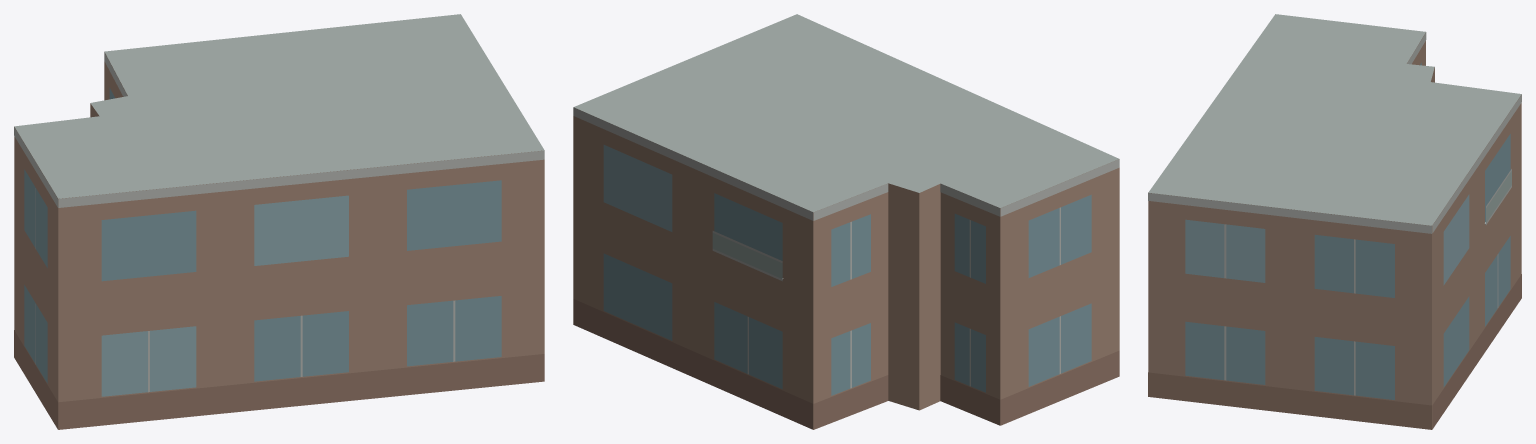
Rendered from survey-upis-32868132.glb.
The picture shows the model from 3 angles, left to right: view 1: azimuth 30°, elevation 25°; view 2: azimuth 150°, elevation 25°; view 3: azimuth 270°, elevation 25°; orthographic projection. The views are drawn at different scales.
Visible parts, largest first — view 1: survey-upis-32868132.tmp; view 2: survey-upis-32868132.tmp; view 3: survey-upis-32868132.tmp.
Part boxes in pixels (x1,y1,x2,y2): survey-upis-32868132.tmp: [14, 14, 544, 429]; survey-upis-32868132.tmp: [573, 14, 1119, 429]; survey-upis-32868132.tmp: [1148, 14, 1521, 429].
Bounding box in the file's own units: 13.59 × 6.1 × 10.13.
